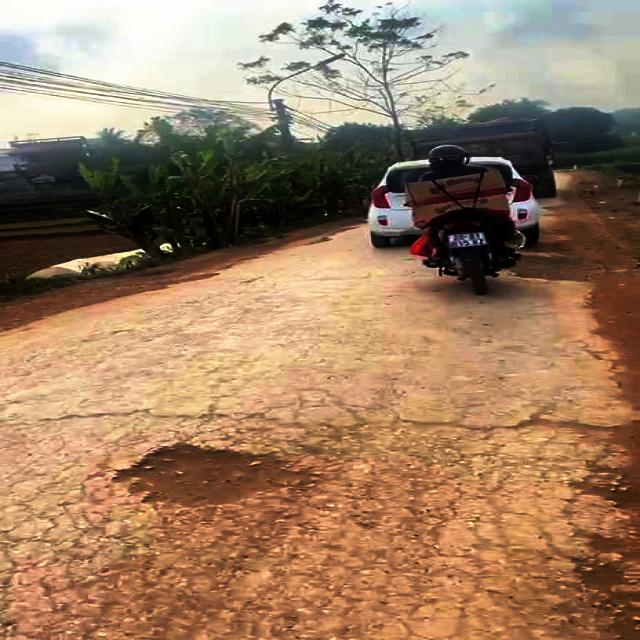pothole: (109, 442, 324, 512)
